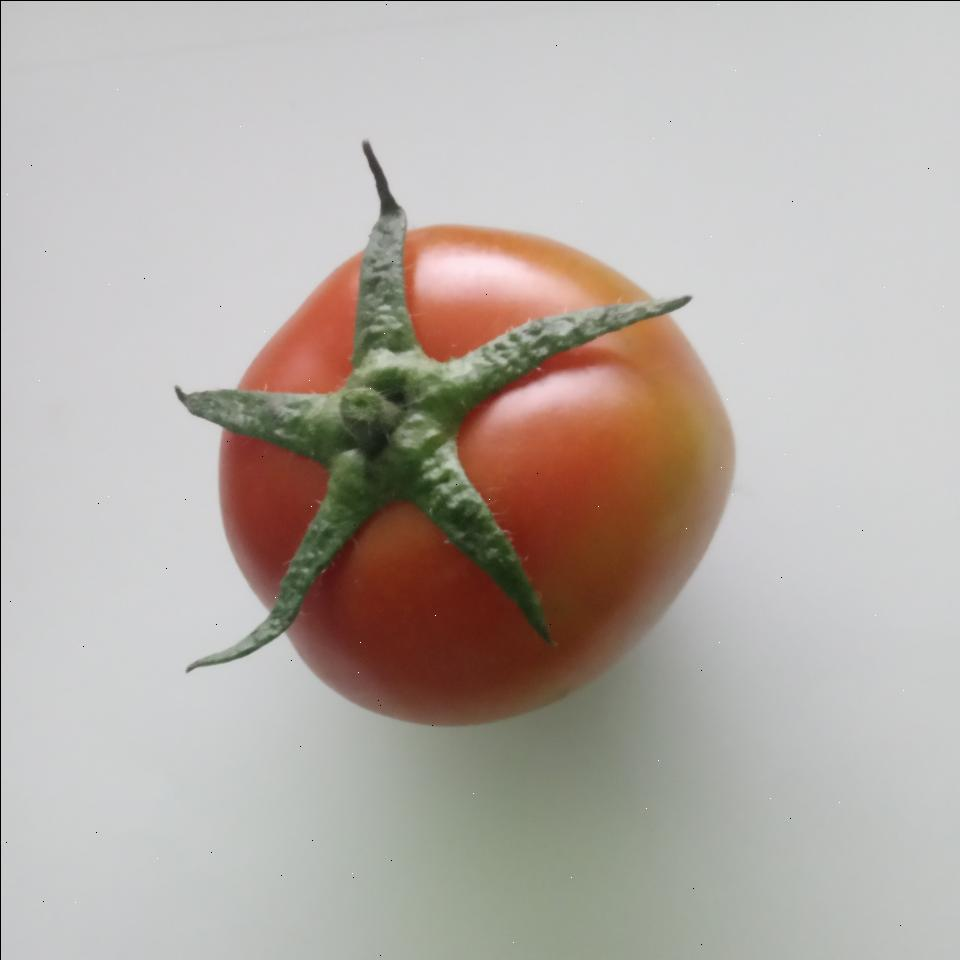Healthy: (214, 210, 740, 726)
